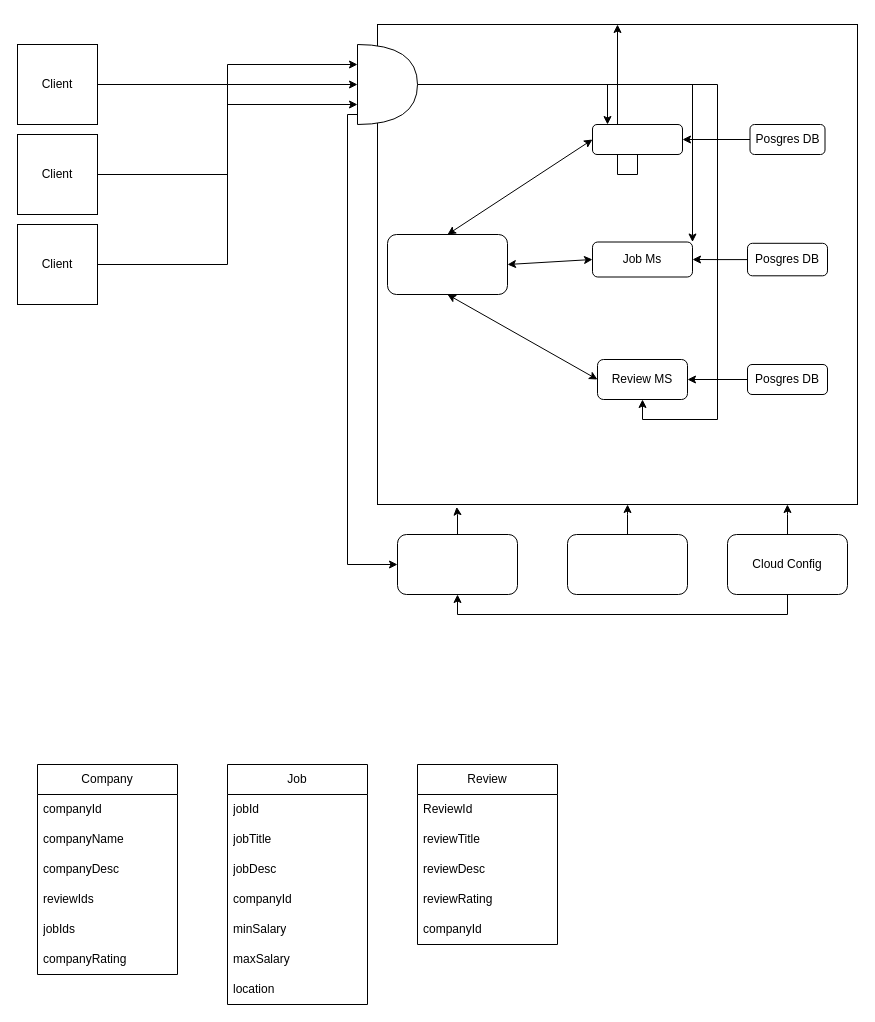
The diagram is 875 pixels wide and 1022 high, and some of its shapes have lost their labels. The centre of each missing label's shape, as x and y in pixels:
API Gateway: the point at 387,84
Company MS: the point at 637,139
Rabbit MQ Queue: the point at 447,264
Service-Registry: the point at 457,564
ZipKin: the point at 627,564
